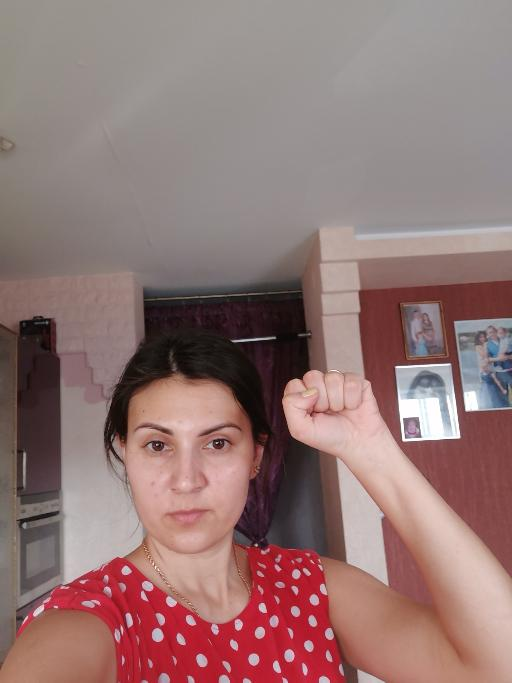fist: (278, 366, 389, 458)
